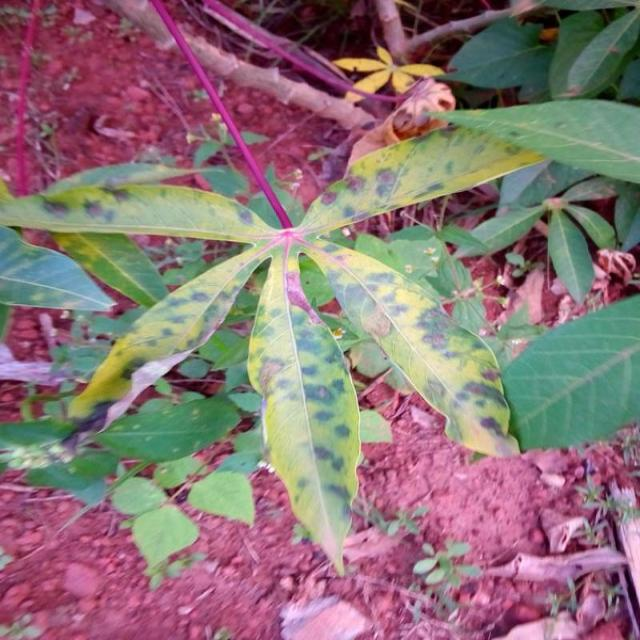cassava leaf: (2, 4, 638, 577), (247, 243, 363, 576), (502, 291, 640, 452)
